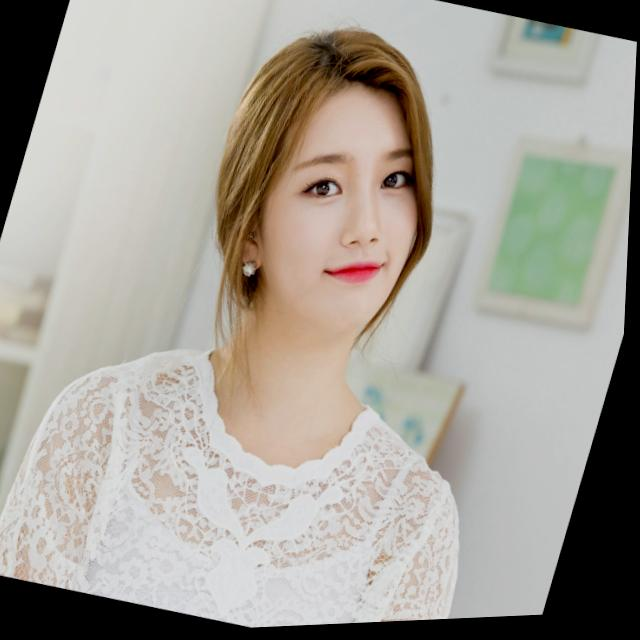face: (172, 17, 481, 380)
